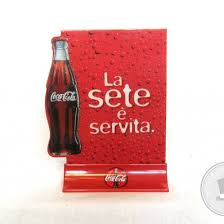coke: (41, 33, 90, 165)
